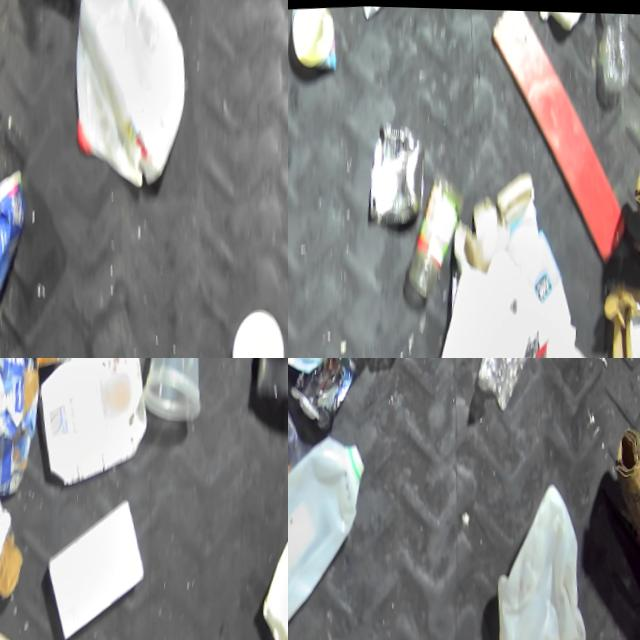milk_jug: (65, 0, 202, 190), (488, 472, 604, 640), (288, 433, 375, 616)
non_white_jug: (0, 163, 42, 342)
plastic_bottle: (469, 358, 551, 408), (586, 10, 636, 90)
